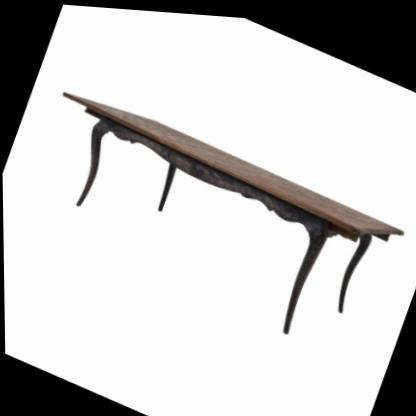Table: (5, 37, 416, 374)
